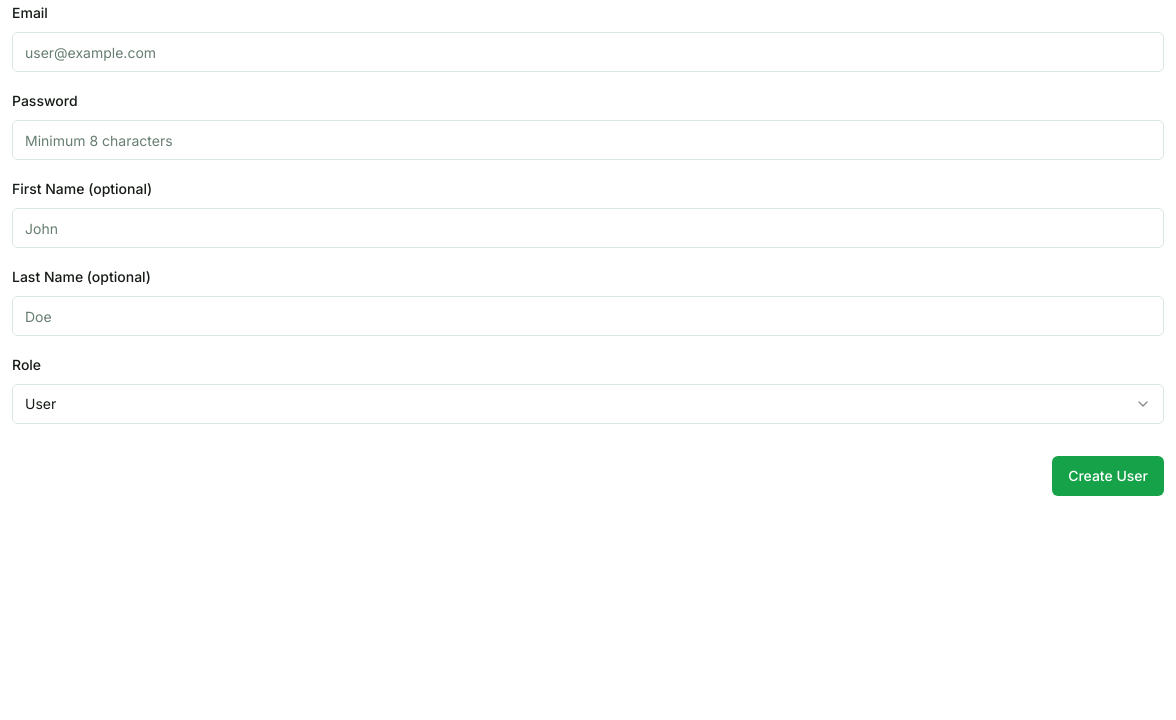
Test: UserForm › create mode: shows validation errors for empty required fields
Step 1. Click the button with test id "user-form-submit" → click(1108, 476), box [1052, 456, 1164, 496]
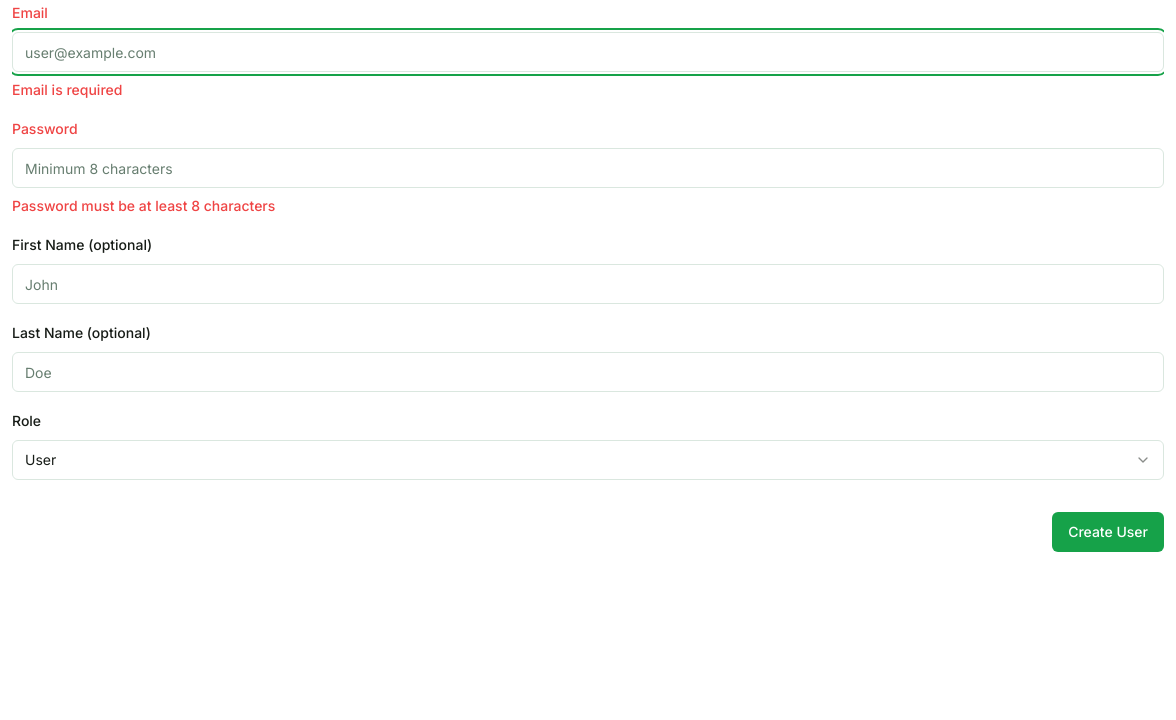
Check: the text "Email is required" is shown, box [12, 81, 122, 98]
